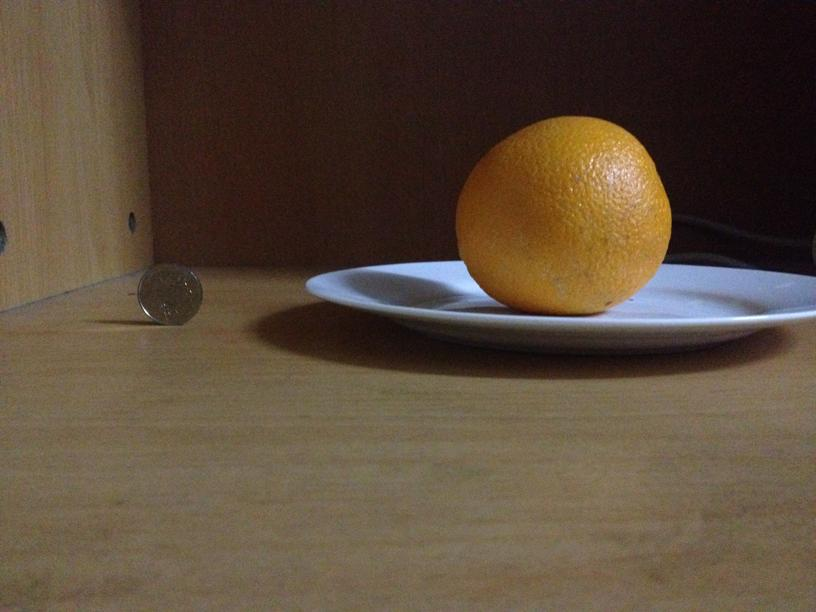coin: (137, 262, 201, 324)
orange: (458, 114, 671, 313)
